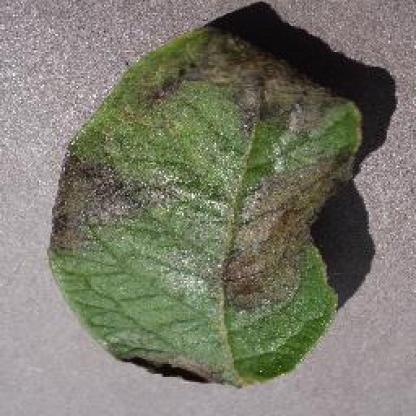bad leaf: (83, 12, 320, 340), (43, 145, 173, 265)
